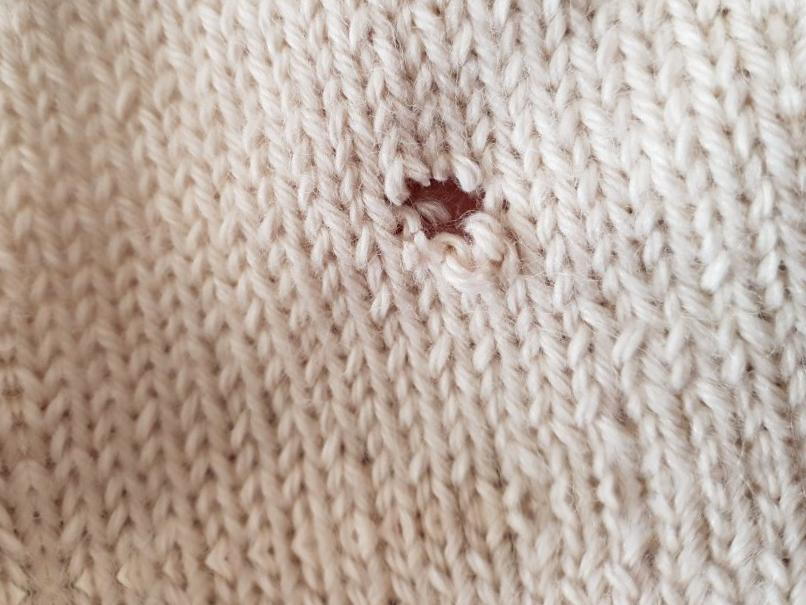hole: (387, 160, 505, 253)
